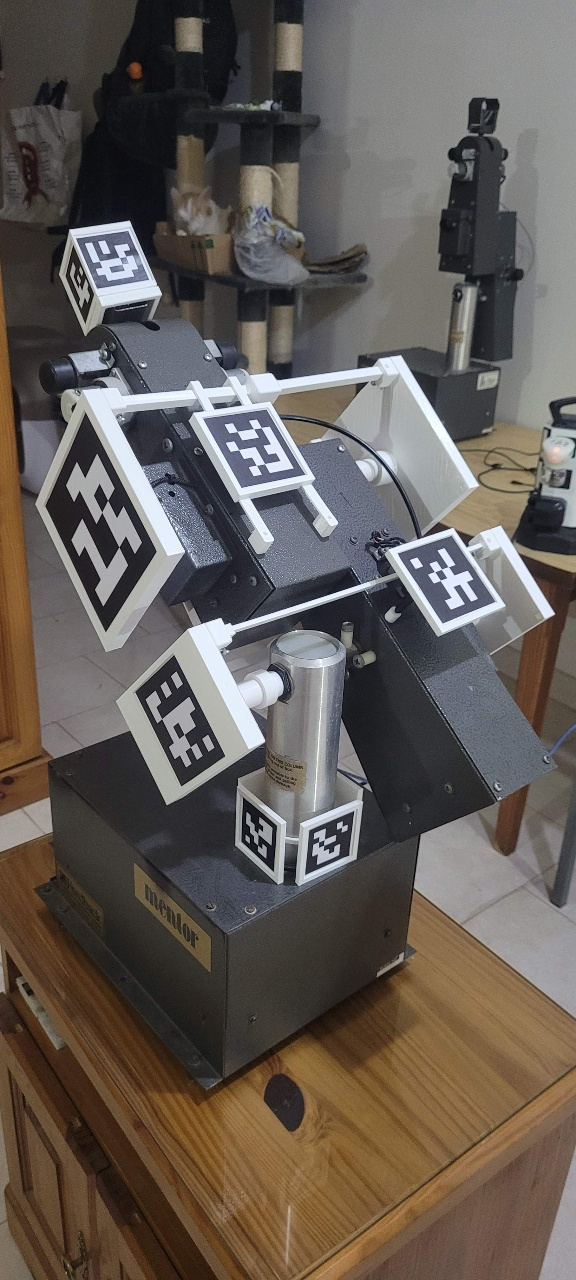Robot: (33, 219, 561, 889)
